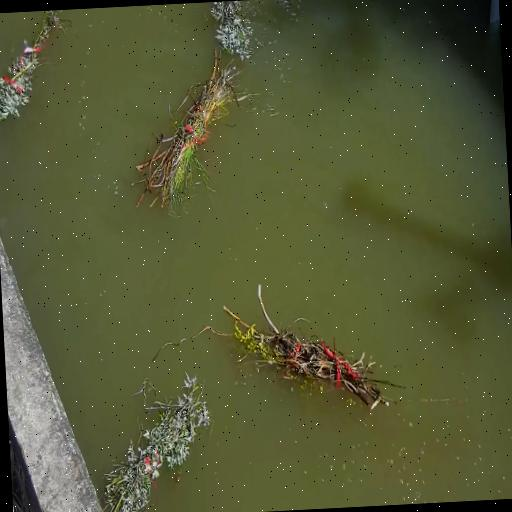twig: (225, 286, 396, 409), (135, 48, 248, 212), (104, 372, 210, 512), (0, 11, 62, 122), (211, 0, 252, 60)
